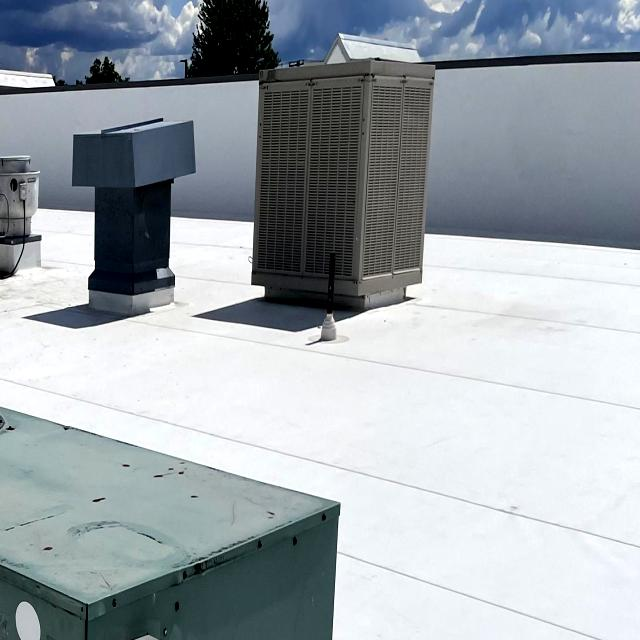GRAVITY-VENT: (69, 104, 202, 310), (0, 142, 44, 279)
RTU: (0, 377, 347, 640)
SPLIT-SYSTEM: (245, 51, 441, 338)
